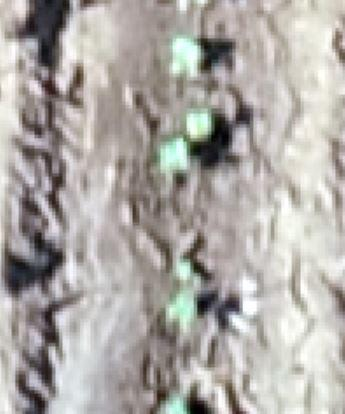cotton: (174, 38, 200, 70), (186, 107, 211, 139), (160, 140, 186, 168), (170, 296, 195, 320), (181, 263, 195, 275)
